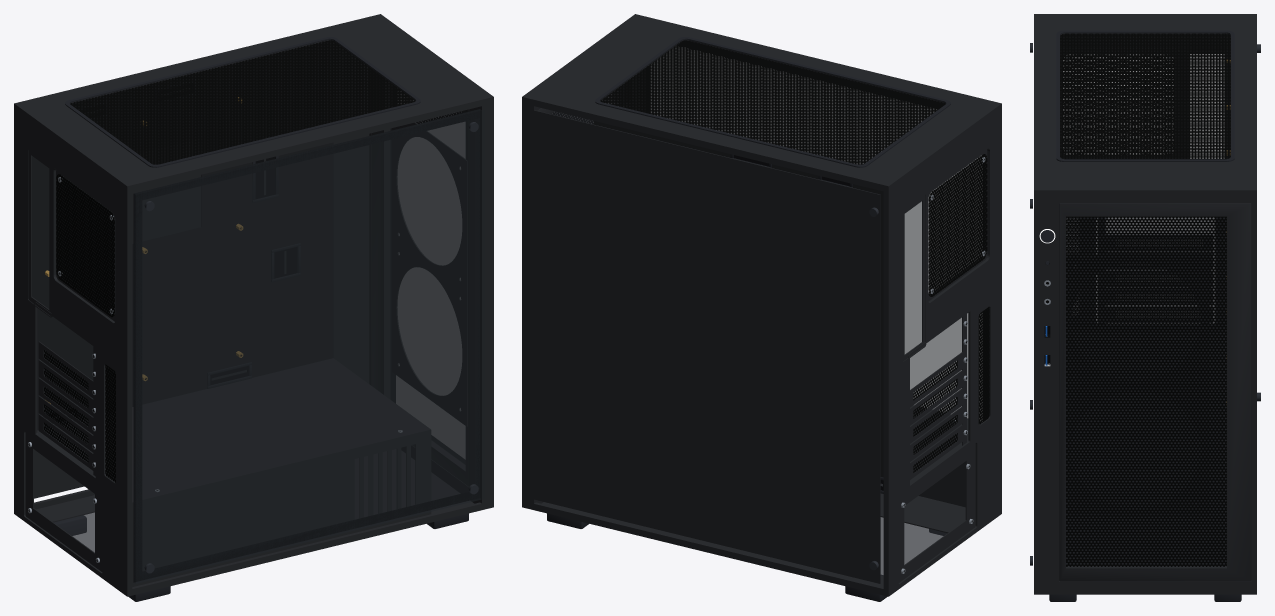
The model's file is f_case_standard_tower.glb.
3 renders of one model, left to right at view 1: azimuth 30°, elevation 25°; view 2: azimuth 150°, elevation 25°; view 3: azimuth 270°, elevation 25°, orthographic.
Visible parts, largest first — view 1: part_case, panel_open, panel_closed; view 2: panel_closed, part_case, panel_open; view 3: part_case.
Boxes of the visible parts, x1,y1,x2,y2 form: part_case: (14,14,493,601); panel_open: (133,109,484,583); panel_closed: (34,42,369,498); panel_closed: (530,110,880,583); part_case: (522,14,1001,601); panel_open: (645,41,989,420); part_case: (1034,14,1256,601).
Size of the model in its own units: 4.32 by 4.79 by 2.38.
16 materials, 1 textured.
